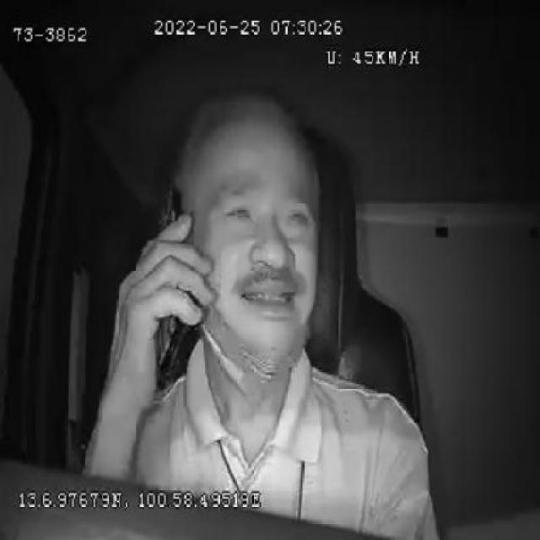phone: (145, 186, 200, 373)
